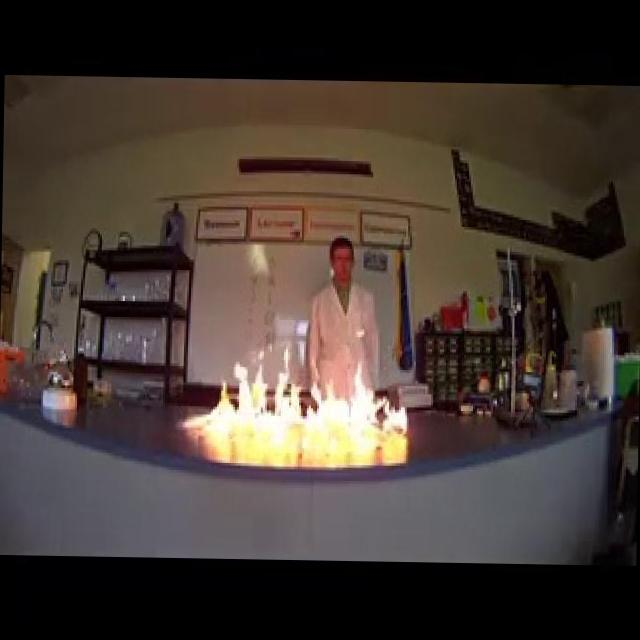Fire: (176, 336, 414, 448)
